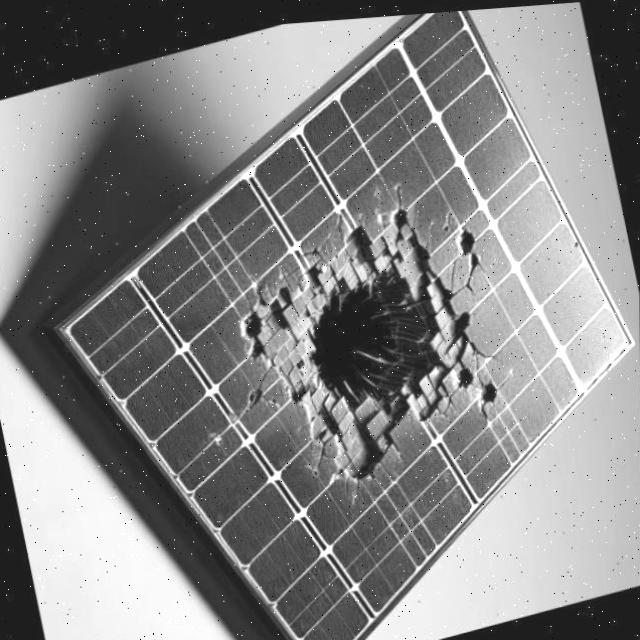Anomaly Solar Panel: (48, 8, 640, 640)
Structural Damage: (220, 182, 522, 497), (453, 219, 491, 287), (477, 372, 504, 415)
